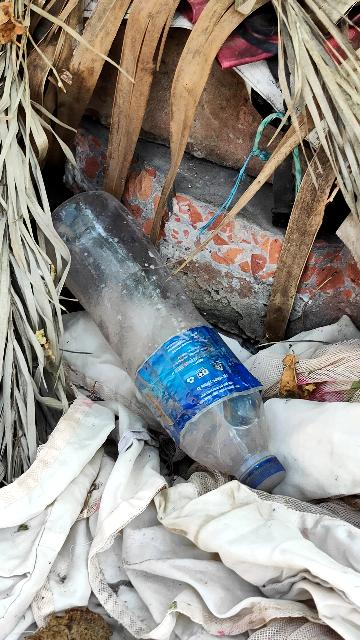bottle: (35, 177, 314, 517)
